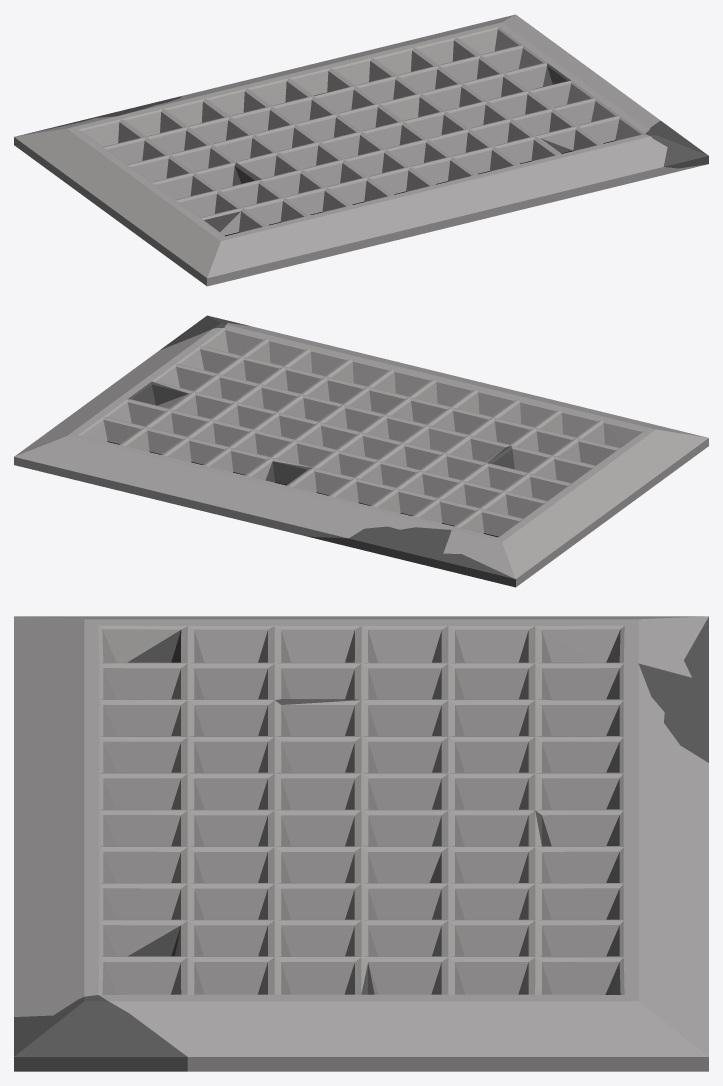
The model's file is MEDSpikeMetalGrate.fbx.
3 views of the same model, one above another, from view 1: azimuth 30°, elevation 25°; view 2: azimuth 150°, elevation 25°; view 3: azimuth 270°, elevation 25° (orthographic). The views are drawn at different scales.
Parts seen in each view (by area): view 1: MEDSpikeMetalGrate; view 2: MEDSpikeMetalGrate; view 3: MEDSpikeMetalGrate.
Boxes of the visible parts, left/top/right/bottom form: MEDSpikeMetalGrate: left=14, top=14, right=708, bottom=286; MEDSpikeMetalGrate: left=14, top=315, right=708, bottom=587; MEDSpikeMetalGrate: left=14, top=616, right=708, bottom=1071.
Bounding box in the file's own units: 178 × 7.75 × 119.
